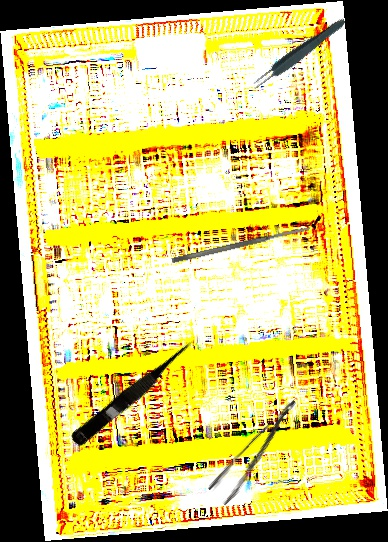Dressing Forceps: (205, 398, 312, 506)
Micro Scissor: (68, 334, 203, 452)
Spatula Surgical: (171, 225, 312, 264)
Tissue Forceps: (248, 14, 349, 93)
